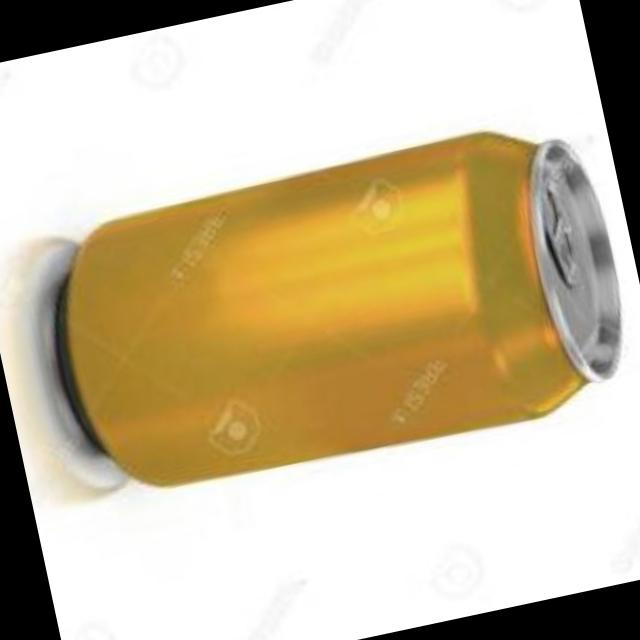metal: (64, 135, 623, 486)
